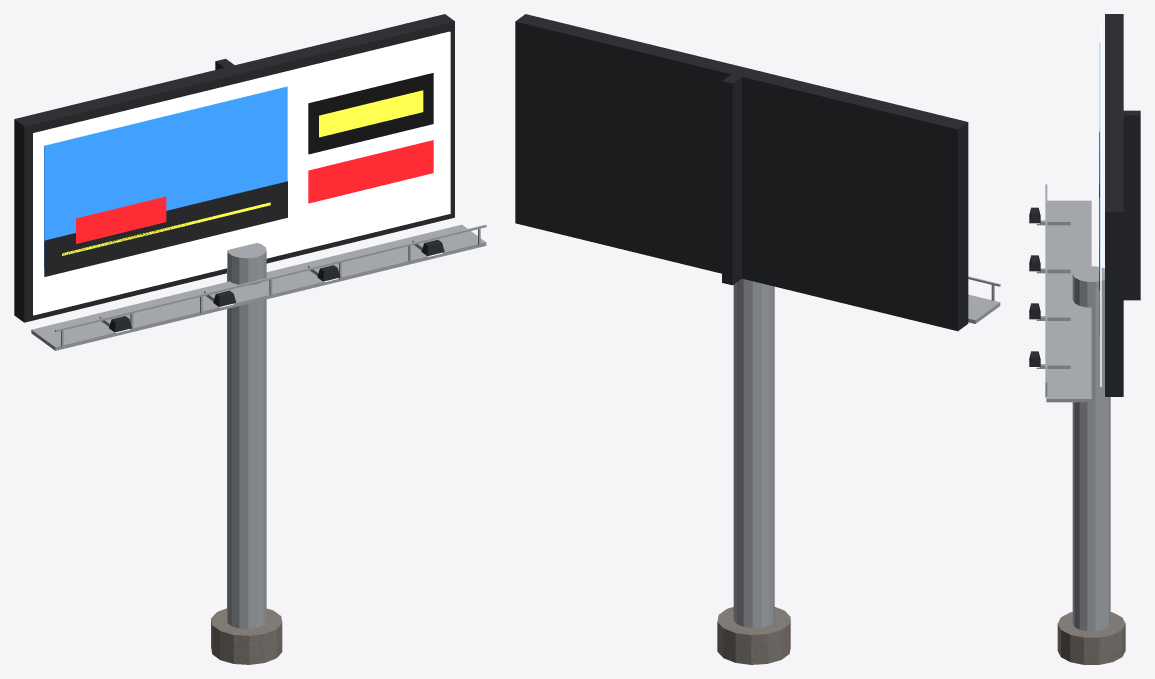
The model's file is OT_Billboard.glb.
The picture shows the model from 3 angles, left to right: view 1: azimuth 30°, elevation 25°; view 2: azimuth 150°, elevation 25°; view 3: azimuth 270°, elevation 25°; orthographic projection. The views are drawn at different scales.
Visible parts, largest first — view 1: OT_Billboard_AdFace__f4f8ff, OT_Billboard_Galv__b4b9bf, OT_Billboard_AdSky__2a6db5, OT_Billboard_BBFrame__2a2c30, OT_Billboard_AdRoad__2a2c30, OT_Billboard_AdHead__1a1a1a, OT_Billboard_AdCta__d0181e, OT_Billboard_Concrete, OT_Billboard_AdCar__d0181e, OT_Billboard_AdHeadTxt__f6c22c, OT_Billboard_AdLine__f6c22c; view 2: OT_Billboard_BBFrame__2a2c30, OT_Billboard_Galv__b4b9bf, OT_Billboard_Concrete; view 3: OT_Billboard_Galv__b4b9bf, OT_Billboard_BBFrame__2a2c30, OT_Billboard_Concrete, OT_Billboard_AdFace__f4f8ff, OT_Billboard_AdSky__2a6db5.
Boxes of the visible parts, x1,y1,x2,y2 form: OT_Billboard_AdFace__f4f8ff: (33, 31, 450, 315); OT_Billboard_Galv__b4b9bf: (31, 224, 486, 628); OT_Billboard_AdSky__2a6db5: (44, 86, 287, 268); OT_Billboard_BBFrame__2a2c30: (14, 14, 454, 332); OT_Billboard_AdRoad__2a2c30: (44, 181, 287, 276); OT_Billboard_AdHead__1a1a1a: (308, 73, 433, 154); OT_Billboard_AdCta__d0181e: (308, 140, 433, 203); OT_Billboard_Concrete: (211, 608, 282, 664); OT_Billboard_AdCar__d0181e: (76, 196, 166, 243); OT_Billboard_AdHeadTxt__f6c22c: (319, 90, 423, 137); OT_Billboard_AdLine__f6c22c: (62, 202, 270, 255); OT_Billboard_BBFrame__2a2c30: (515, 14, 968, 331); OT_Billboard_Galv__b4b9bf: (733, 276, 1000, 627); OT_Billboard_Concrete: (717, 607, 790, 664); OT_Billboard_Galv__b4b9bf: (1036, 184, 1110, 631); OT_Billboard_BBFrame__2a2c30: (1029, 14, 1140, 396); OT_Billboard_Concrete: (1057, 612, 1125, 664); OT_Billboard_AdFace__f4f8ff: (1100, 24, 1101, 386); OT_Billboard_AdSky__2a6db5: (1099, 43, 1100, 270).
Size of the model in its own units: 12.4 by 15.7 by 2.95.
Materials: 12 (1 with a texture image).
